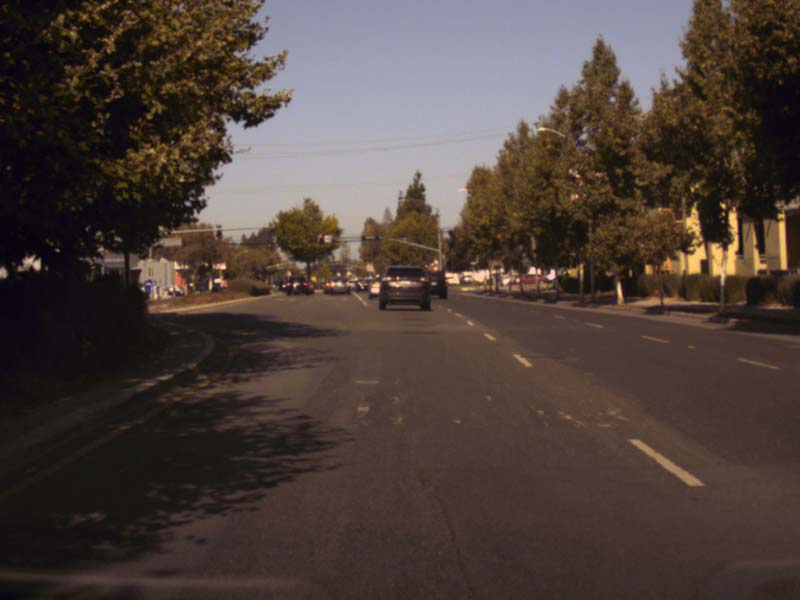Green: (361, 234, 366, 244)
Red: (318, 235, 323, 244)
